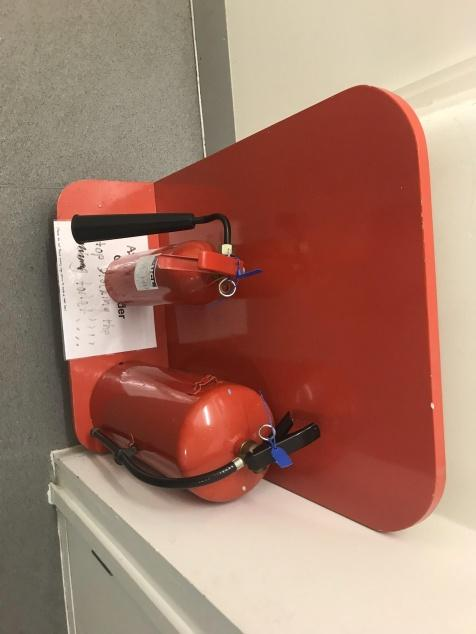APAR: (90, 359, 319, 503), (103, 239, 247, 305)
